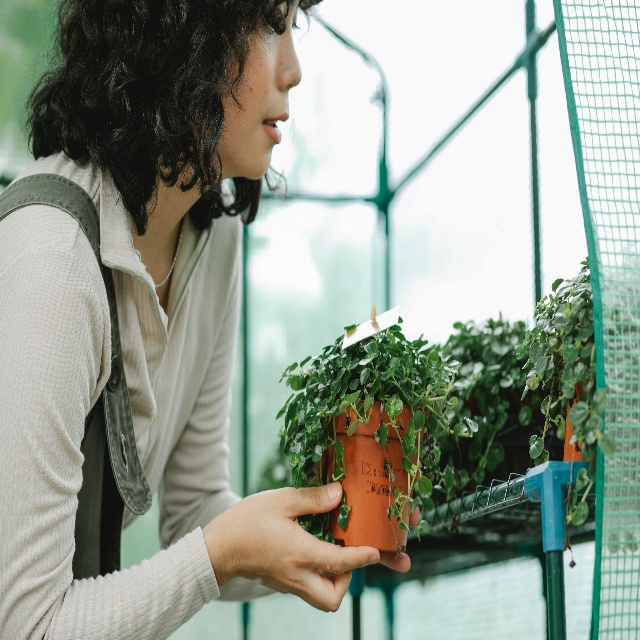Sin_guantes: (226, 479, 380, 613)
